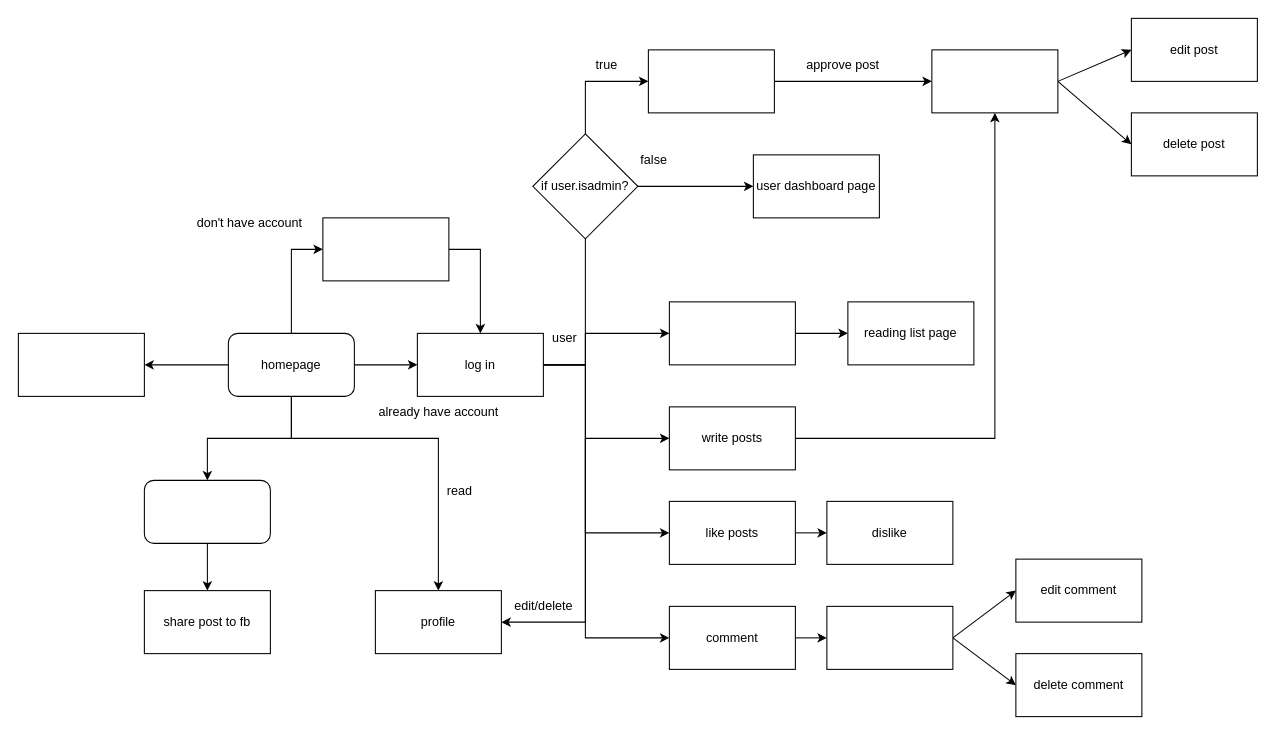
This 1276x735 diagram has some shape labels left out. Here are the shapes that lost their labels. From the top down, the centre of each, then its label:
At point (710, 81): "admin dashboard page".
At point (994, 81): "publish post".
At point (385, 249): "sign up".
At point (731, 333): "bookmark post".
At point (80, 364): "searchpage".
At point (206, 511): "posts list".
At point (889, 637): "reply comment".
